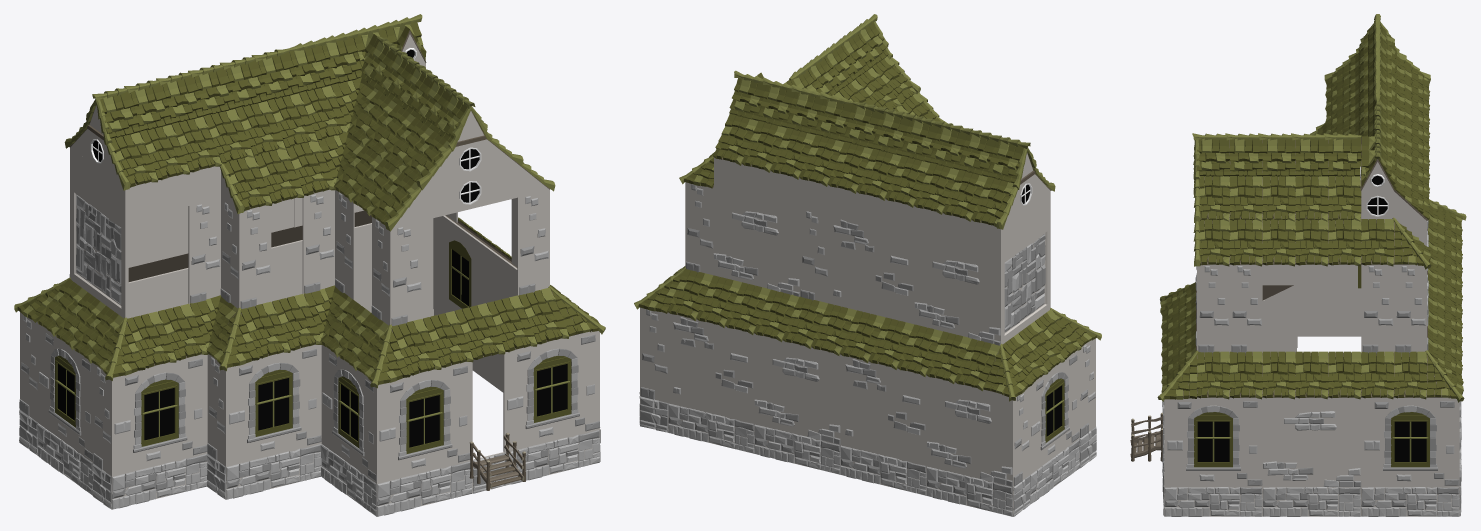
File: HOUSE_9_PARTS.fbx
The picture shows the model from 3 angles, left to right: view 1: azimuth 30°, elevation 25°; view 2: azimuth 150°, elevation 25°; view 3: azimuth 270°, elevation 25°; orthographic projection. The views are drawn at different scales.
Parts seen in each view (by area): view 1: WINDOW_05_14, WINDOW_05_11, WINDOW_05_10, WINDOW_05_12, WALL_02_2, WINDOW_05_15, WINDOW_05_13, WINDOW_05_16, FOUNDATION_03_6, FOUNDATION_03_5, WALL_06_12, WALL_06_16 (+83 smaller); view 2: WALL_03_5, WALL_01_5, WALL_03_4, WALL_01_4, WALL_01_6, WALL_03_8, WALL_03_7, WINDOW_05_15, WALL_02_2, FOUNDATION_03_11, FOUNDATION_03_10, FOUNDATION_03_9 (+65 smaller); view 3: WALL_03_6, WINDOW_05_16, WINDOW_05_17, FOUNDATION_03_13, FOUNDATION_03_14, FOUNDATION_03_12, WALL_06_21, WALL_06_20, WALL_06_19, WALL_06_22, WALL_06_3, ROOF_BASE_20 (+65 smaller).
Part boxes in pixels (x1,y1,x2,y2): WINDOW_05_14: (503, 331, 600, 452); WINDOW_05_11: (226, 344, 321, 465); WINDOW_05_10: (112, 354, 207, 476); WINDOW_05_12: (377, 361, 472, 483); WALL_02_2: (70, 181, 128, 318); WINDOW_05_15: (38, 324, 93, 462); WINDOW_05_13: (321, 345, 378, 483); WINDOW_05_16: (433, 215, 489, 313); FOUNDATION_03_6: (112, 453, 207, 509); FOUNDATION_03_5: (226, 443, 321, 499); WALL_06_12: (188, 198, 220, 304); WALL_06_16: (517, 190, 549, 295); WALL_03_5: (754, 334, 840, 444); WALL_01_5: (668, 313, 754, 423); WALL_03_4: (927, 376, 1013, 486); WALL_01_4: (841, 355, 926, 465); WALL_01_6: (828, 215, 914, 324); WALL_03_8: (914, 236, 1001, 345); WALL_03_7: (713, 187, 799, 296); WINDOW_05_15: (1029, 350, 1079, 474); WALL_02_2: (1001, 221, 1050, 344); FOUNDATION_03_11: (668, 403, 754, 453); FOUNDATION_03_10: (754, 424, 840, 474); FOUNDATION_03_9: (840, 445, 926, 495); WALL_03_6: (1262, 397, 1361, 486); WINDOW_05_16: (1361, 397, 1459, 486); WINDOW_05_17: (1164, 397, 1262, 486); FOUNDATION_03_13: (1262, 487, 1361, 516); FOUNDATION_03_14: (1164, 487, 1262, 516); FOUNDATION_03_12: (1361, 487, 1459, 516); WALL_06_21: (1361, 264, 1393, 353); WALL_06_20: (1230, 264, 1262, 353); WALL_06_19: (1197, 264, 1229, 353); WALL_06_22: (1394, 264, 1426, 353); WALL_06_3: (1264, 285, 1295, 348); ROOF_BASE_20: (1295, 351, 1328, 399).
Size of the model in its own units: 1341 by 1123 by 1024.
